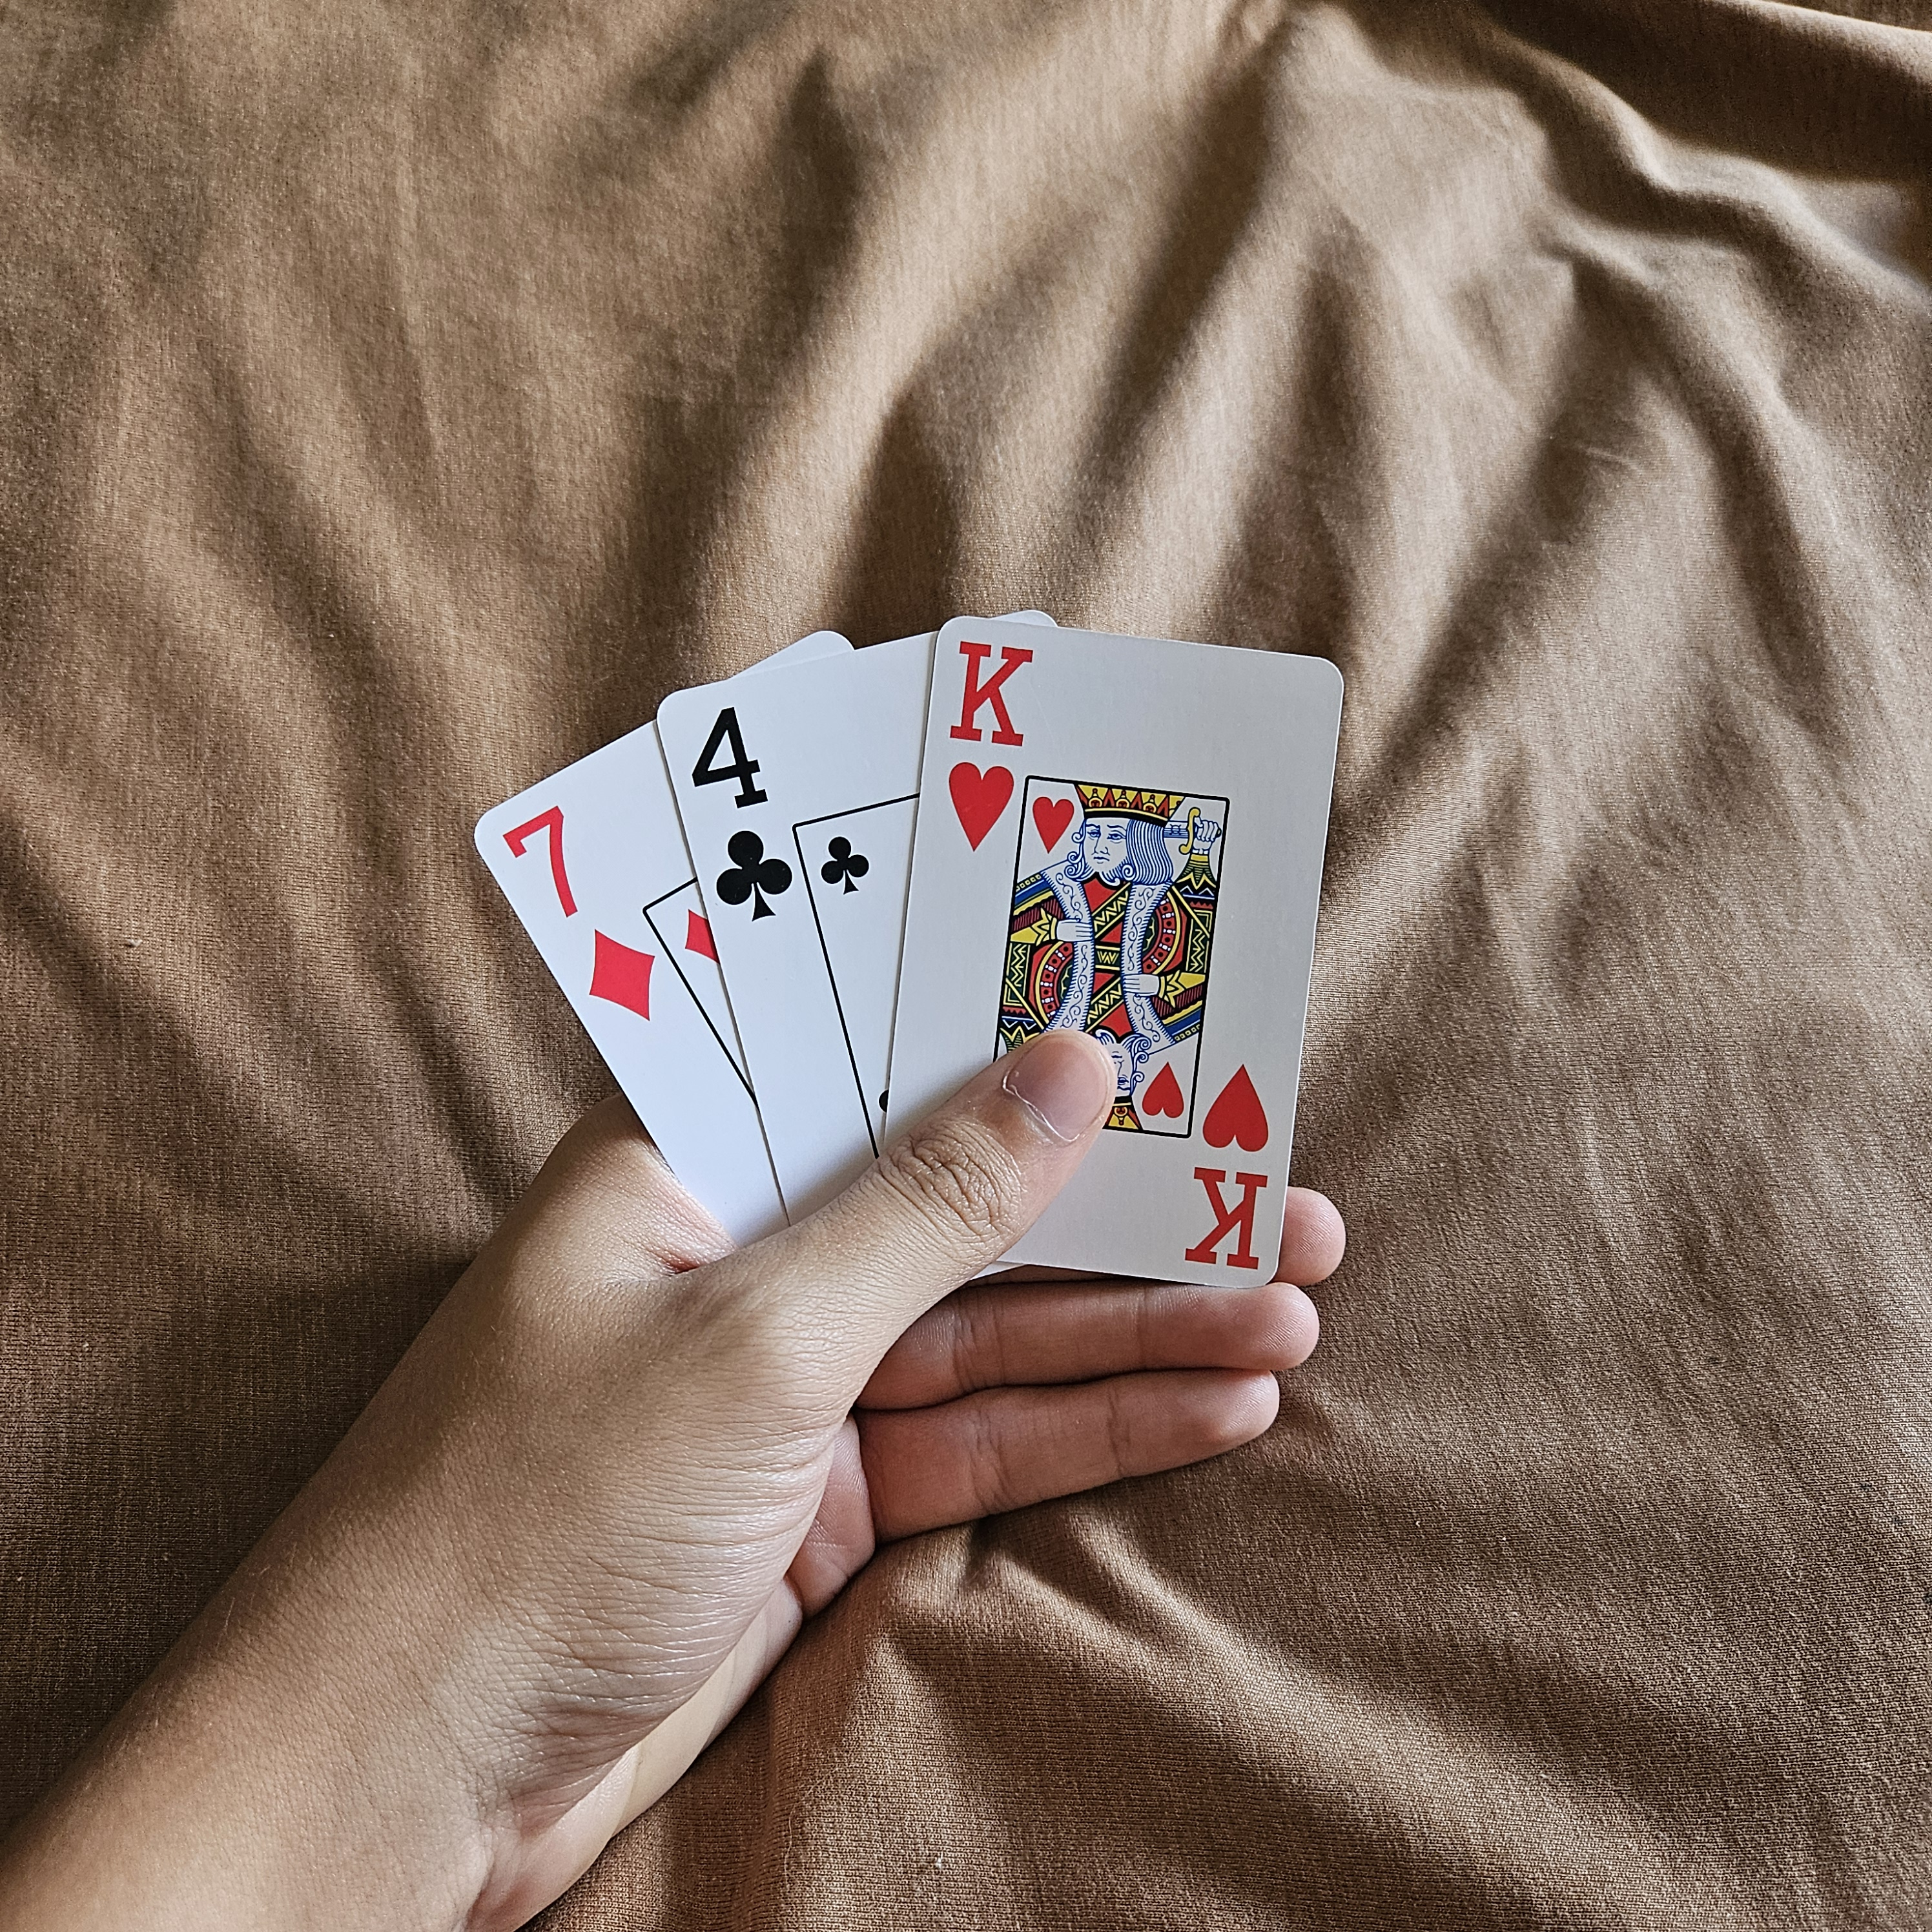4P: (681, 695, 814, 929)
7O: (481, 791, 663, 1039)
KC: (922, 614, 1037, 855), (1178, 1054, 1277, 1284)
